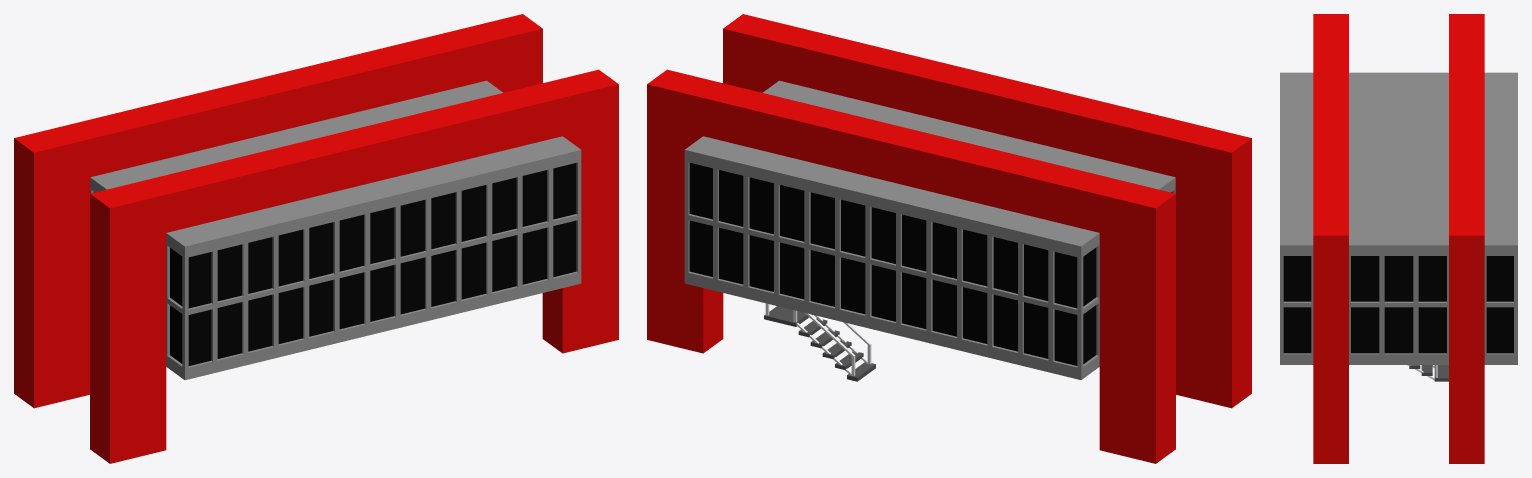
The picture shows the model from 3 angles, left to right: view 1: azimuth 30°, elevation 25°; view 2: azimuth 150°, elevation 25°; view 3: azimuth 270°, elevation 25°; orthographic projection. The views are drawn at different scales.
Parts seen in each view (by area): view 1: BB-01; view 2: BB-01; view 3: BB-01.
Boxes of the visible parts, left/top/right/bottom form: BB-01: left=14, top=14, right=618, bottom=463; BB-01: left=647, top=14, right=1251, bottom=463; BB-01: left=1280, top=14, right=1517, bottom=463.
Size of what is drawn, in the model's own units: 31.85 by 15.29 by 14.44.
